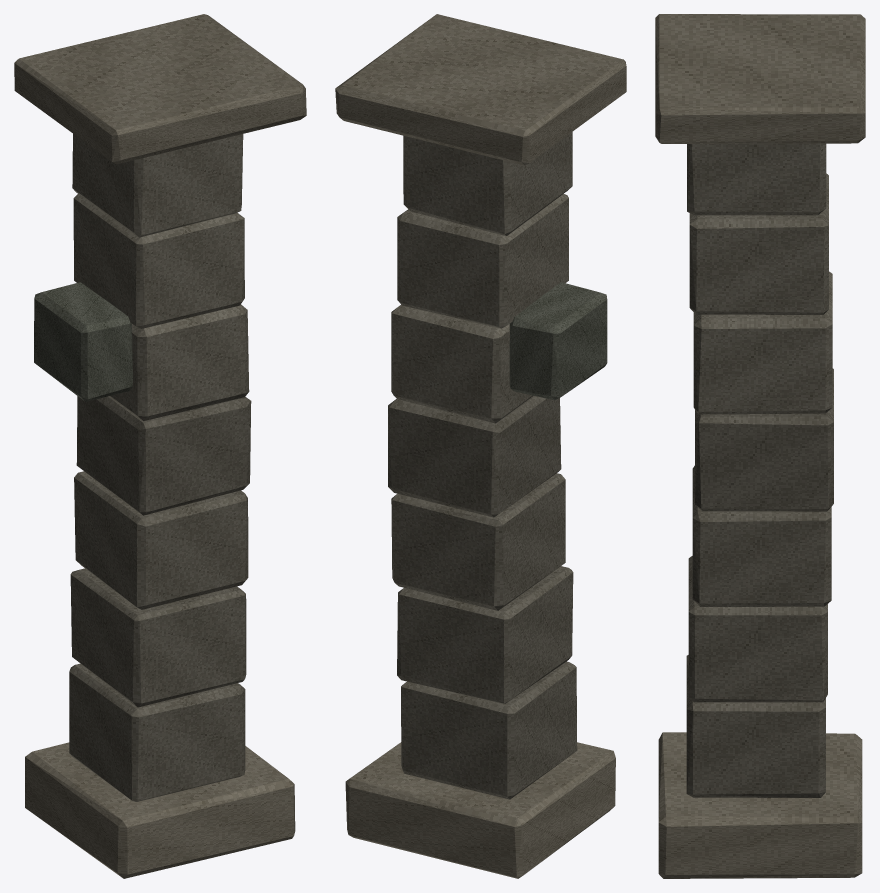
File: env_ruin_pillars_12_gatepost_left.glb
The picture shows the model from 3 angles, left to right: view 1: azimuth 30°, elevation 25°; view 2: azimuth 150°, elevation 25°; view 3: azimuth 270°, elevation 25°; orthographic projection. The views are drawn at different scales.
Size of the model in its own units: 0.7 by 2.52 by 0.62.
1 material, 1 textured.
